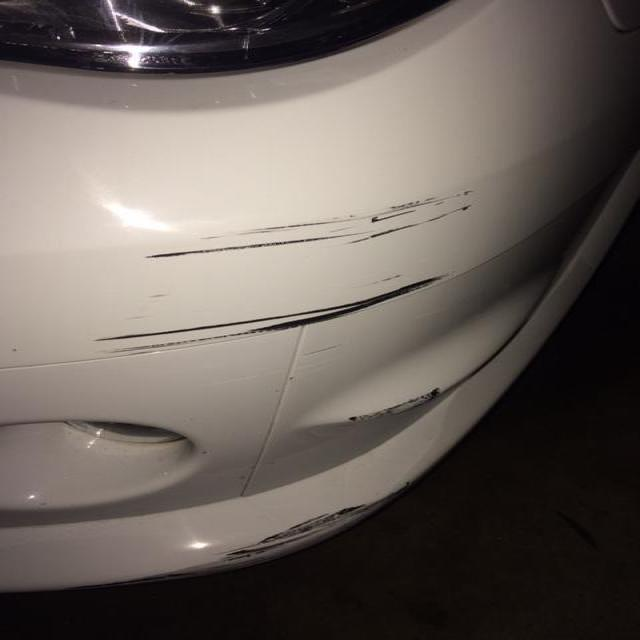Scratch: (72, 273, 448, 352), (144, 189, 457, 273), (331, 386, 447, 427)
